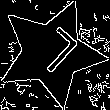L_SW: (23, 24, 80, 82)
